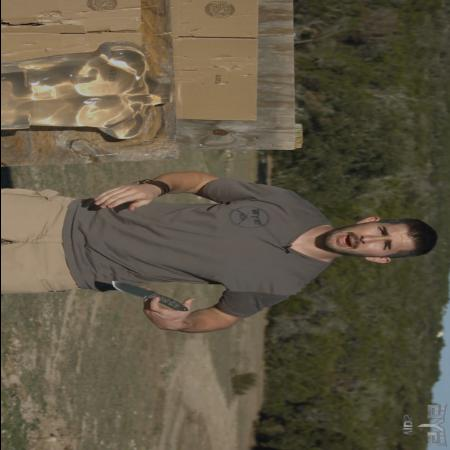long weapon: (103, 278, 198, 316)
